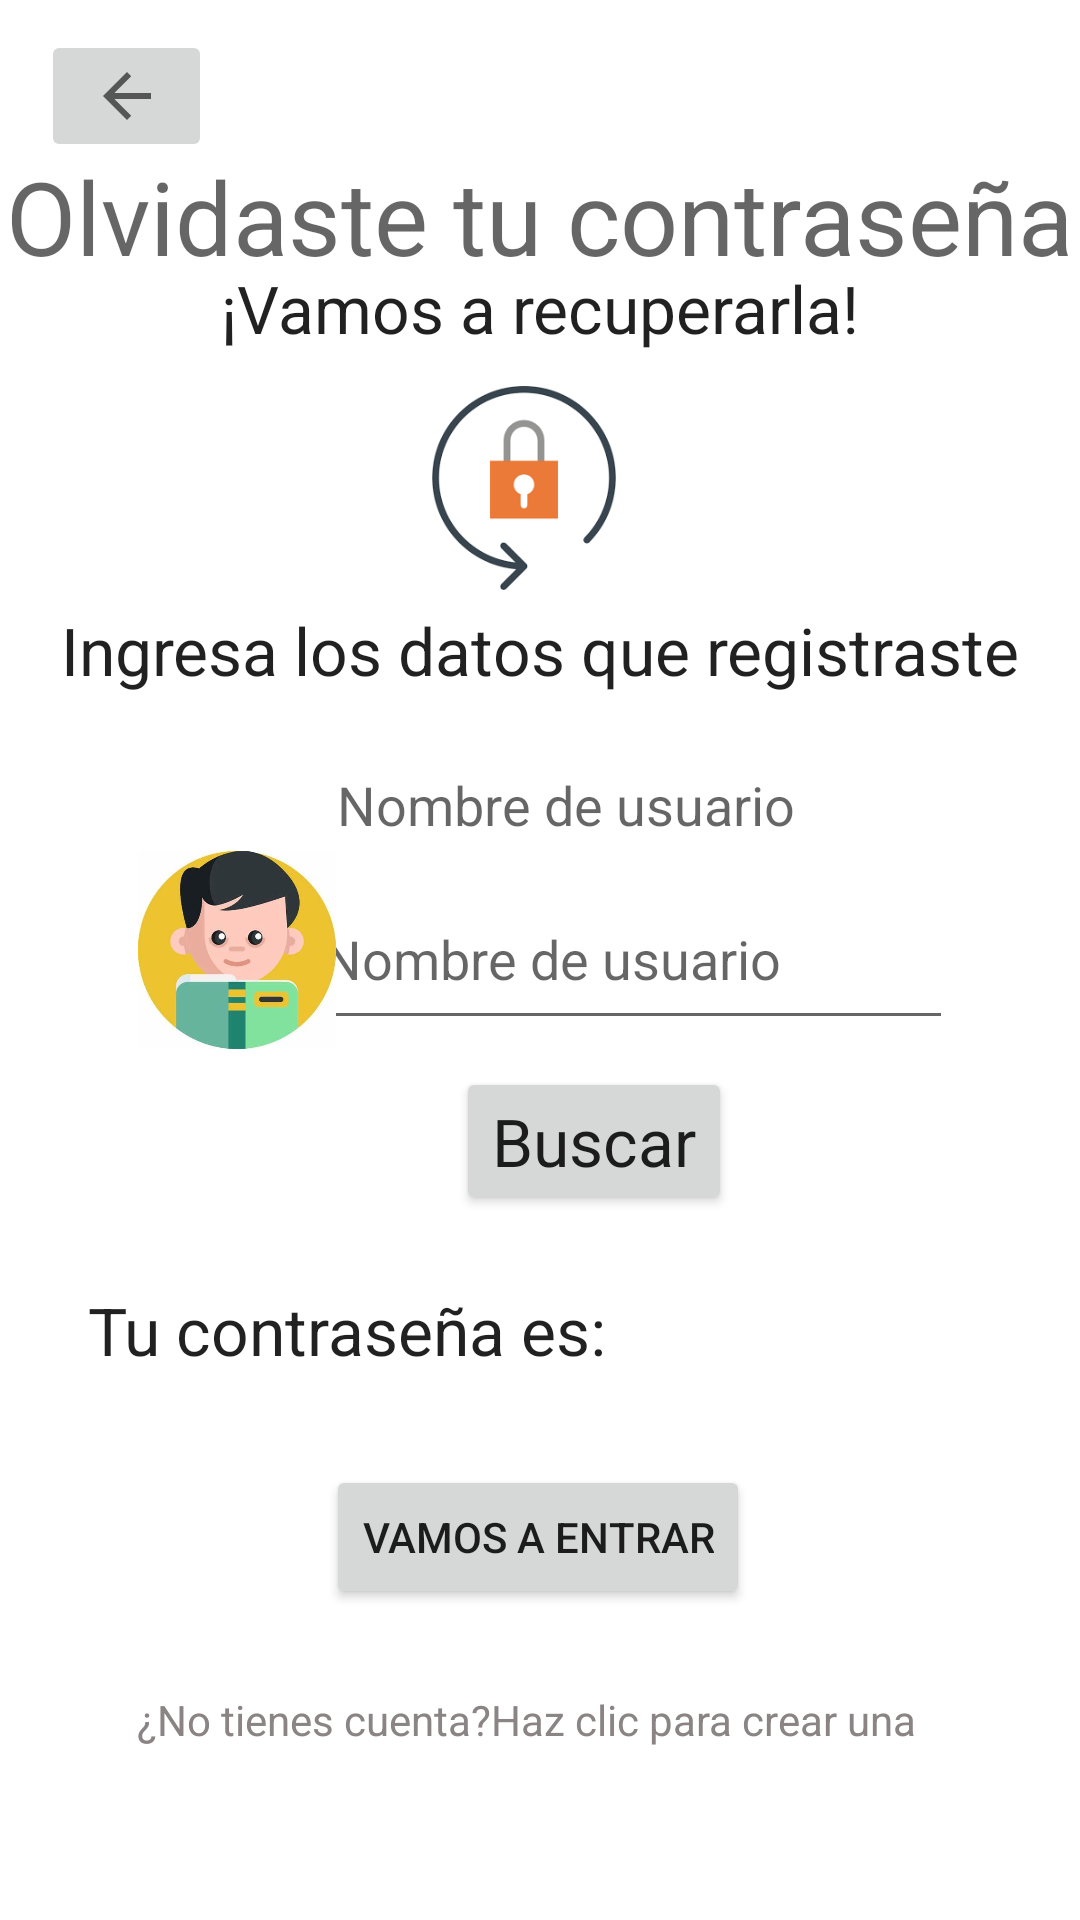

Icon click points for this 1080 x 1920 phone screenshot, format [x,y]:
estudiante: [240,950]
